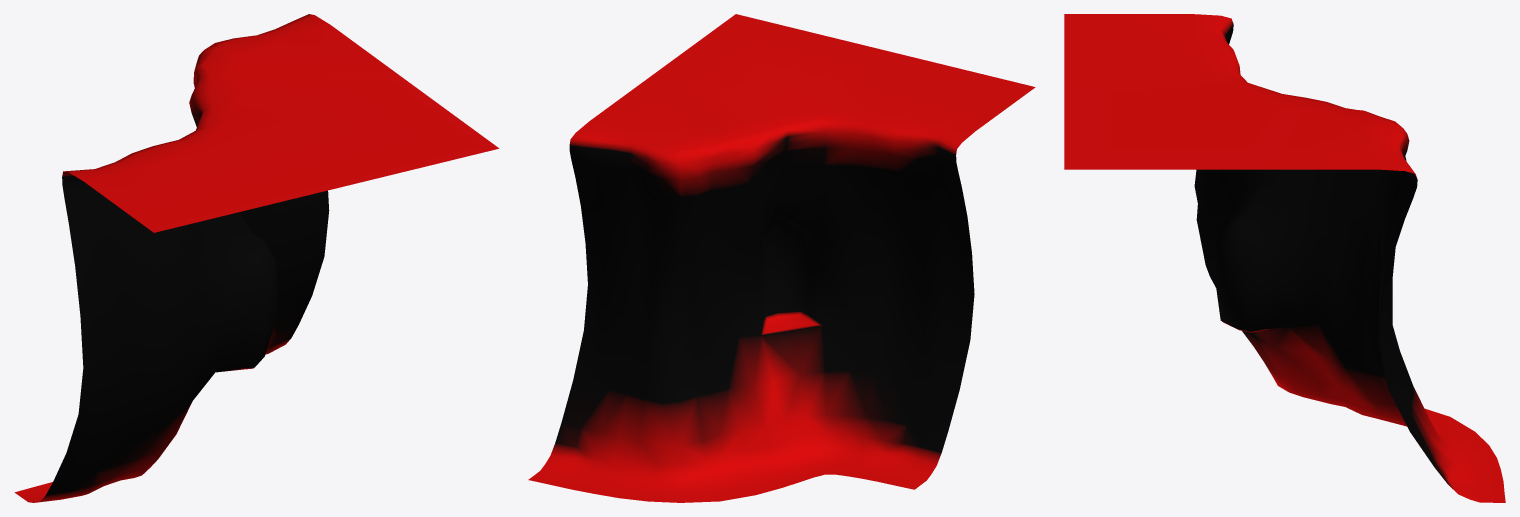
File: GroundCliff05B 2M Background.fbx
3 renders of one model, left to right at view 1: azimuth 30°, elevation 25°; view 2: azimuth 150°, elevation 25°; view 3: azimuth 270°, elevation 25°, orthographic. The views are drawn at different scales.
Parts seen in each view (by area): view 1: GroundCliff05B 2M Background; view 2: GroundCliff05B 2M Background; view 3: GroundCliff05B 2M Background.
Boxes of the visible parts, box(x1,y1,x2,y2) form: GroundCliff05B 2M Background: box(14, 14, 499, 502); GroundCliff05B 2M Background: box(528, 14, 1035, 502); GroundCliff05B 2M Background: box(1064, 14, 1505, 502).
Bounding box in the file's own units: 2 × 2 × 2.4.
